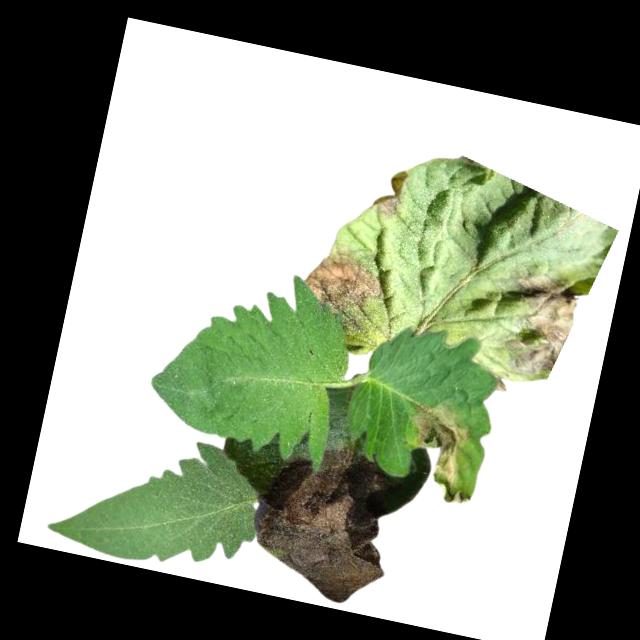Late_blight: (242, 430, 408, 610), (486, 264, 584, 388), (393, 393, 490, 510), (294, 241, 387, 326), (372, 168, 408, 220), (492, 376, 508, 394)
healthy: (142, 250, 364, 476), (43, 414, 270, 584)
